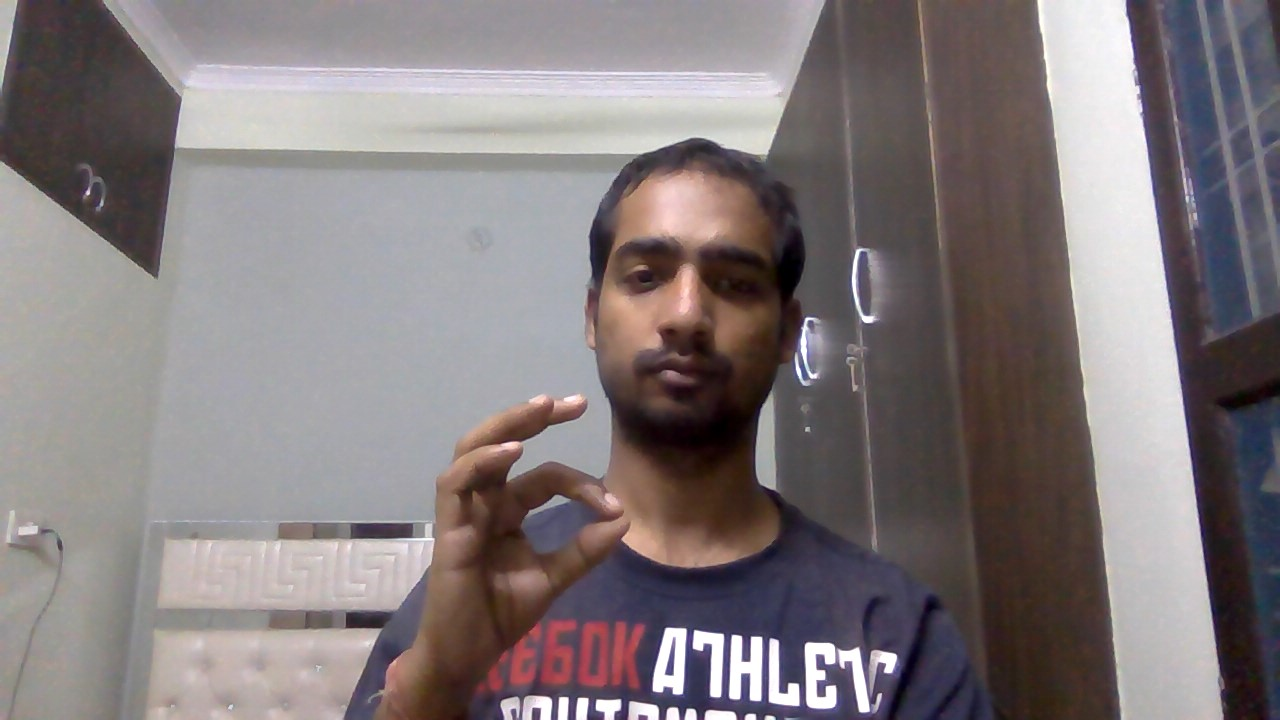Copy: (406, 386, 644, 684)
